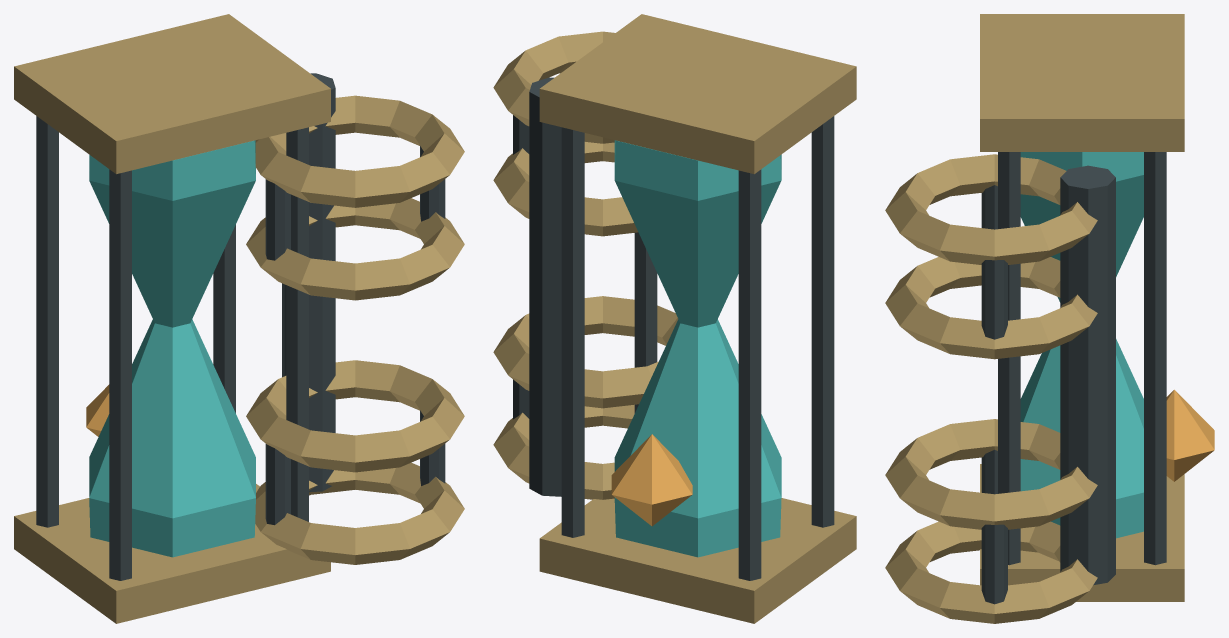
File: Equip_Hourglass.fbx
3 renders of one model, left to right at view 1: azimuth 30°, elevation 25°; view 2: azimuth 150°, elevation 25°; view 3: azimuth 270°, elevation 25°, orthographic.
Parts seen in each view (by area): view 1: Equip_Hourglass; view 2: Equip_Hourglass; view 3: Equip_Hourglass.
Boxes of the visible parts, bbox=[...] form: Equip_Hourglass: bbox=[14, 14, 464, 623]; Equip_Hourglass: bbox=[493, 14, 856, 623]; Equip_Hourglass: bbox=[885, 14, 1214, 623].
Bounding box in the file's own units: 0.27 × 0.365 × 0.2257.
